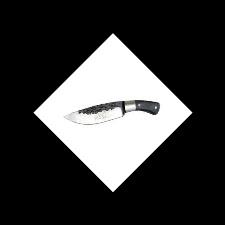k1: (62, 99, 133, 127)
